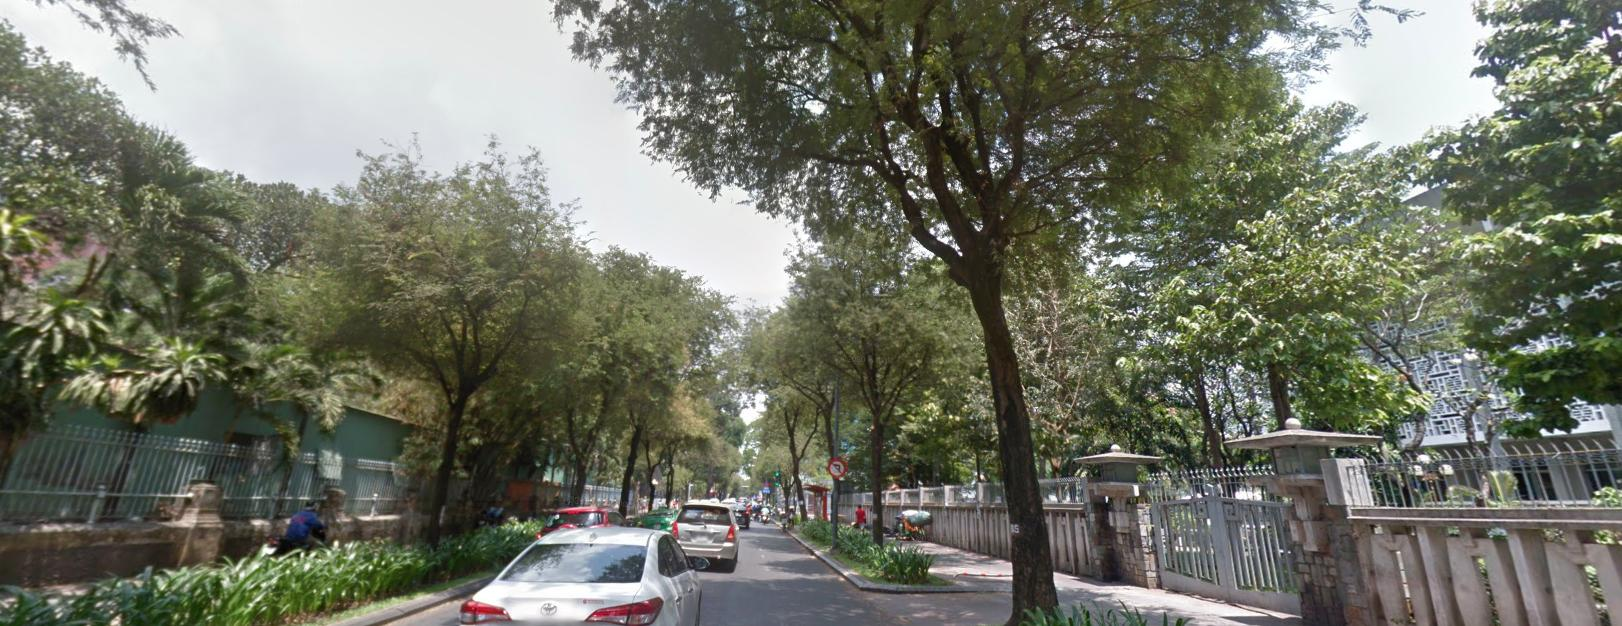Cam re: (824, 457, 846, 477)
